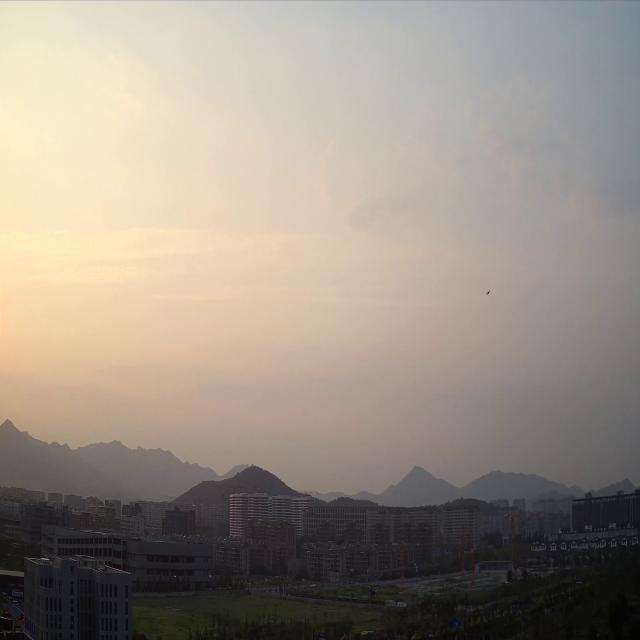drone: (487, 289, 491, 294)
